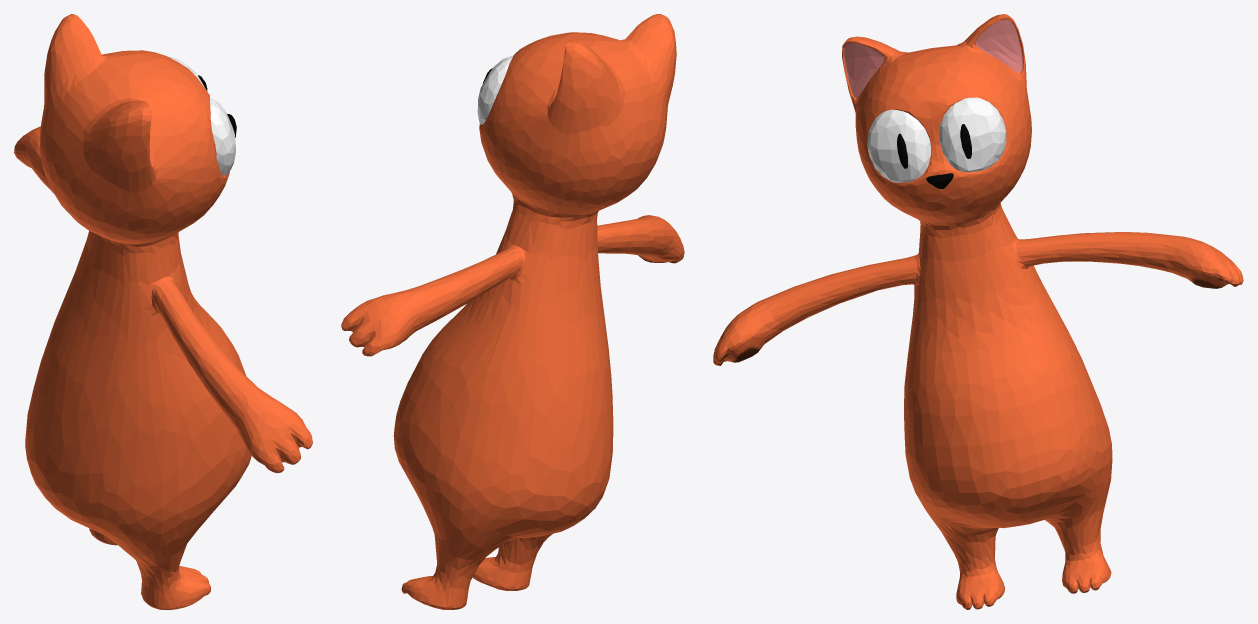
File: CAT_2.glb
3 views of the same model, side by side, from view 1: azimuth 30°, elevation 25°; view 2: azimuth 150°, elevation 25°; view 3: azimuth 270°, elevation 25° (orthographic). The views are drawn at different scales.
Visible parts, largest first — view 1: CAT_1.001; view 2: CAT_1.001; view 3: CAT_1.001.
Part boxes in pixels (x1,y1,x2,y2): CAT_1.001: (14, 14, 312, 609); CAT_1.001: (341, 14, 684, 609); CAT_1.001: (713, 14, 1243, 609).
Bounding box in the file's own units: 0.1549 × 0.3997 × 0.3512.
Materials: 3 (1 with a texture image).
